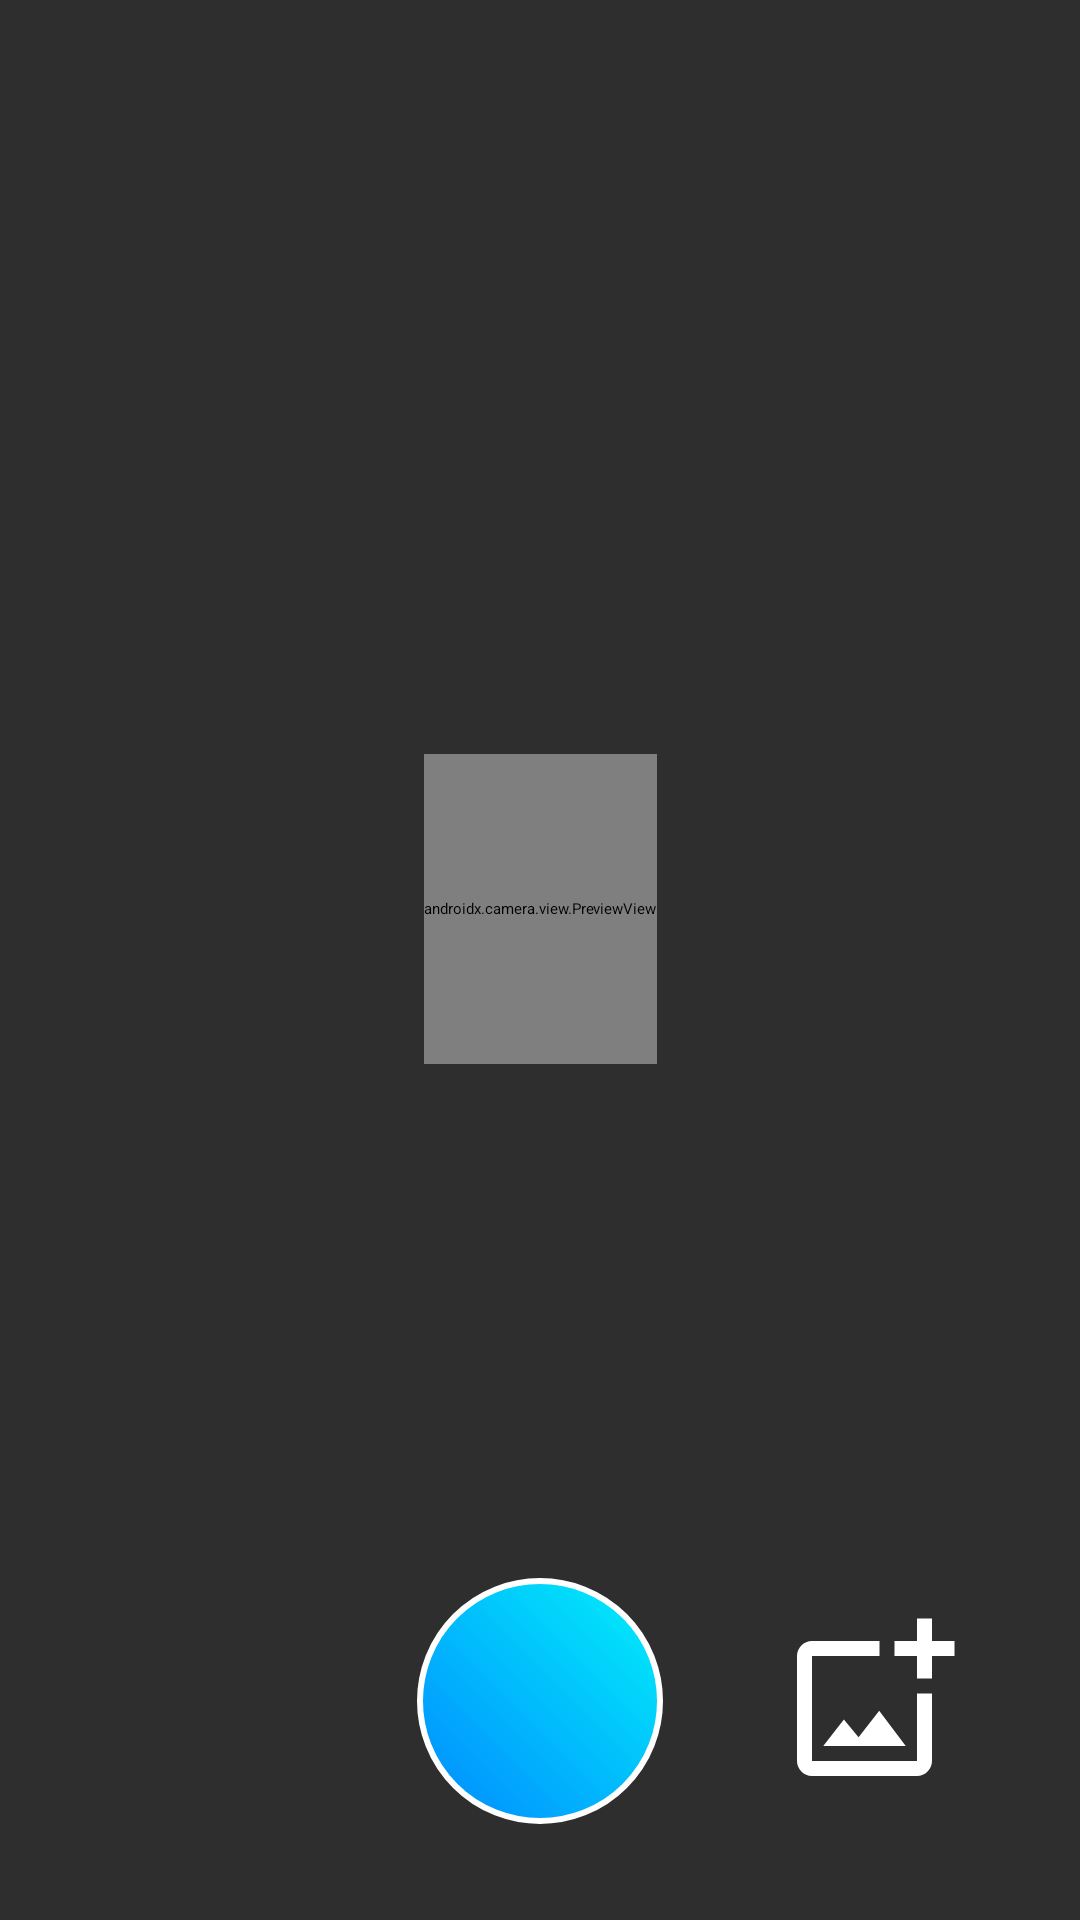

Icons on this 1080 × 1920 Android screen, each with its box as [x1, y1, x2, y2]:
Selecionar foto na galeria: [797, 1618, 955, 1776]
